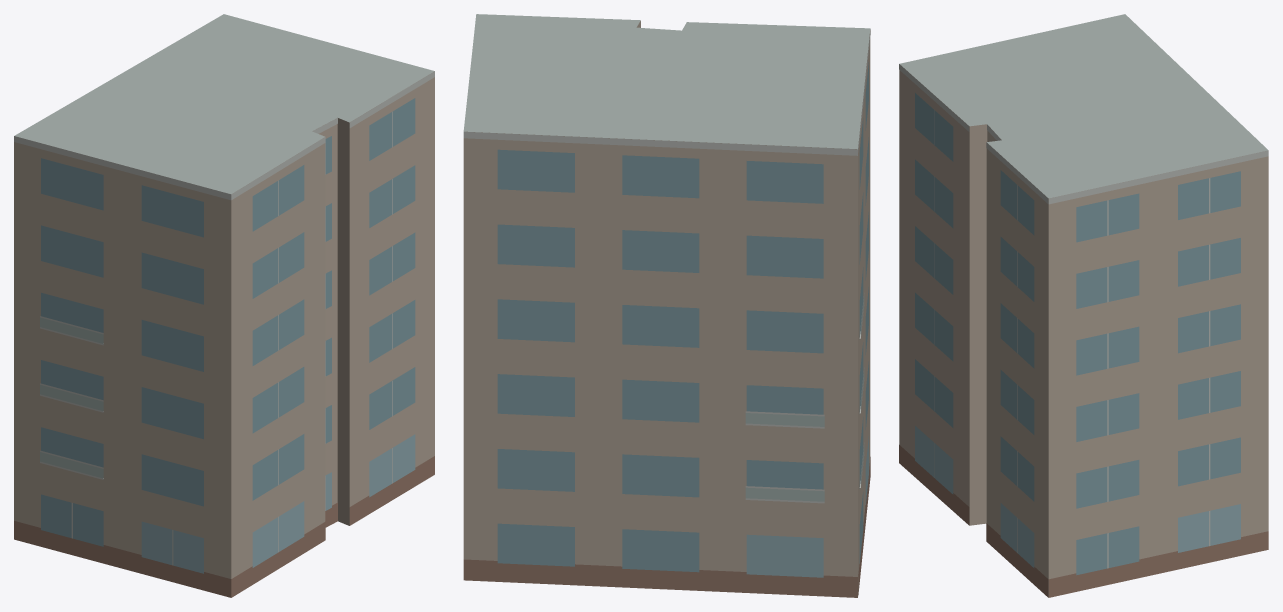
The model's file is survey-upis-32930684.glb.
3 renders of one model, left to right at view 1: azimuth 30°, elevation 25°; view 2: azimuth 150°, elevation 25°; view 3: azimuth 270°, elevation 25°, orthographic. The views are drawn at different scales.
Visible parts, largest first — view 1: survey-upis-32930684.tmp; view 2: survey-upis-32930684.tmp; view 3: survey-upis-32930684.tmp.
Boxes of the visible parts, x1,y1,x2,y2 form: survey-upis-32930684.tmp: [14, 14, 434, 597]; survey-upis-32930684.tmp: [463, 14, 870, 597]; survey-upis-32930684.tmp: [899, 14, 1268, 597].
Bounding box in the file's own units: 16.21 × 16.35 × 13.72.
